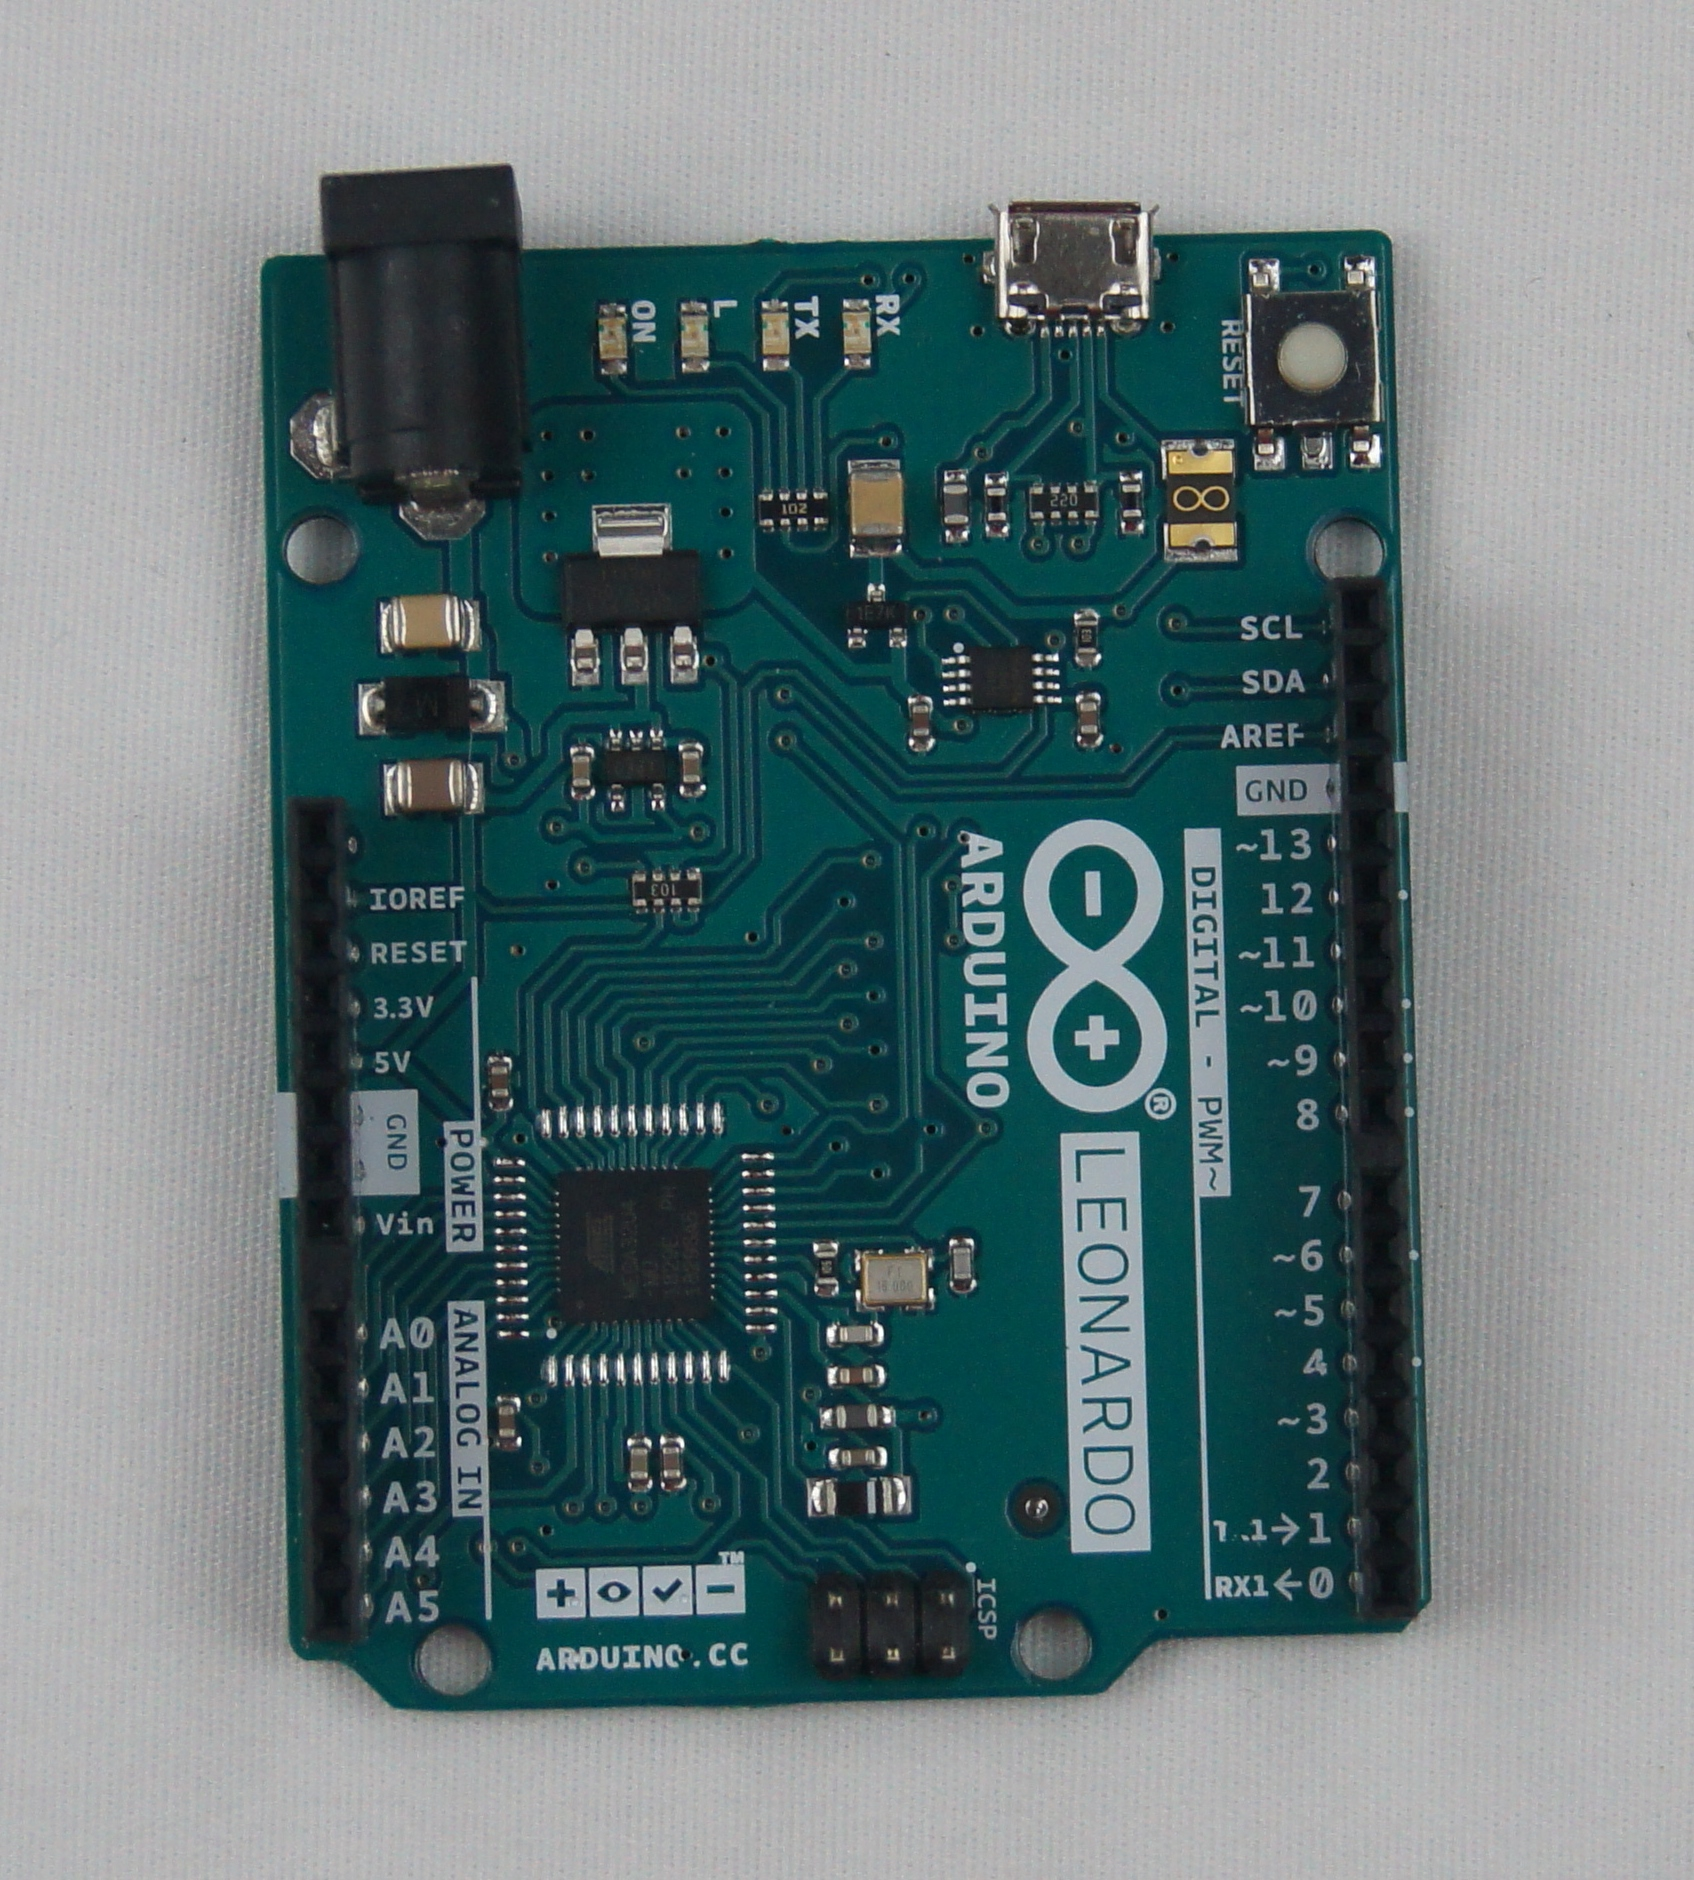kondensator: (379, 593, 477, 649), (374, 760, 476, 809), (947, 1234, 984, 1298), (559, 744, 594, 796), (818, 1403, 896, 1424), (654, 1440, 687, 1489), (618, 1439, 652, 1484), (486, 1053, 515, 1103), (906, 695, 935, 744), (1071, 692, 1100, 741), (674, 745, 710, 785), (497, 1399, 523, 1448), (826, 1323, 878, 1344), (827, 1444, 881, 1460), (836, 1363, 881, 1381)
